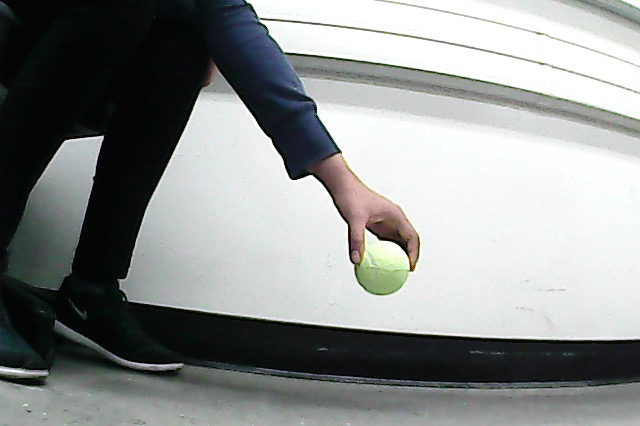ball: (355, 242, 410, 296)
